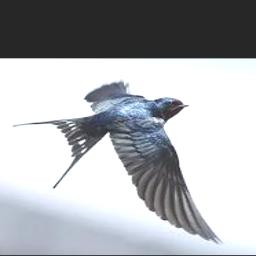Swallow: (12, 79, 224, 245)
